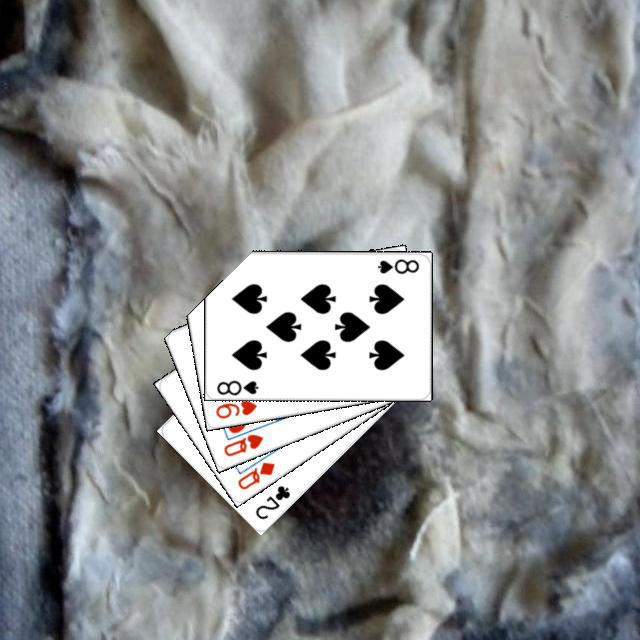2c: (250, 480, 292, 521)
8s: (372, 254, 421, 275), (212, 375, 260, 396)
9h: (211, 395, 259, 420)
Qd: (232, 457, 277, 492)
Qh: (219, 429, 265, 458)
